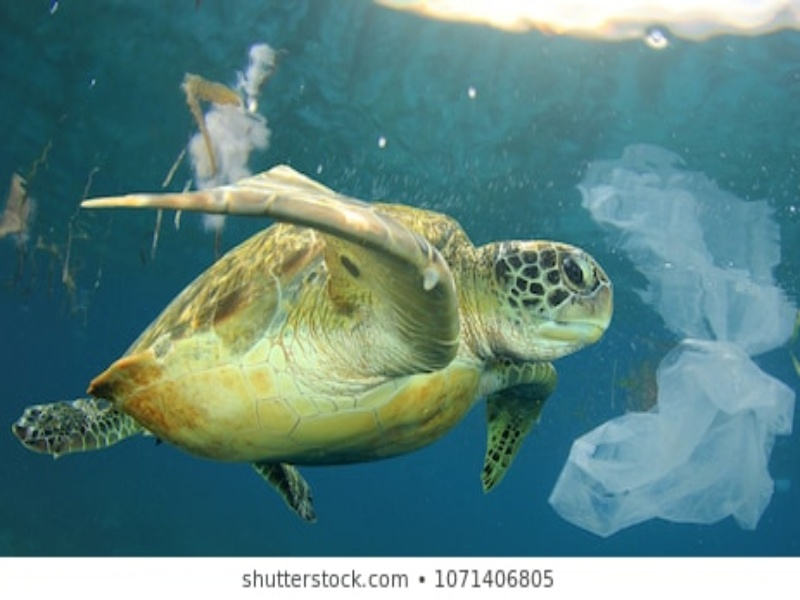plastic-bag: (549, 337, 797, 535), (588, 153, 794, 344)
